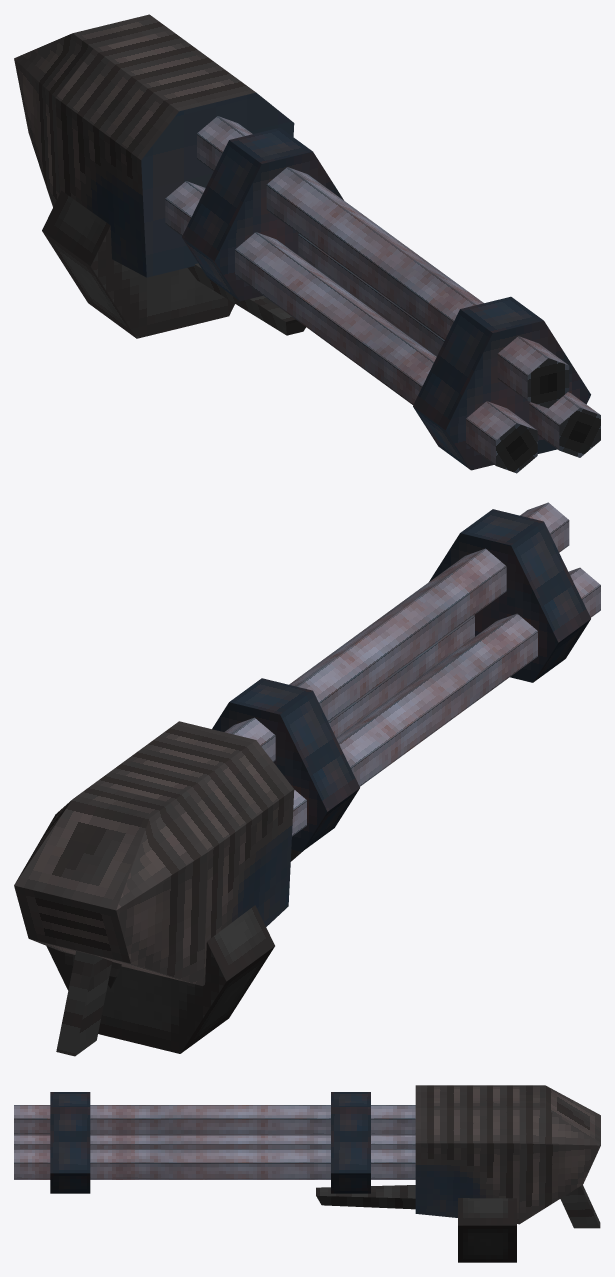
The model's file is chaingun.glb.
3 renders of one model, top to bottom at view 1: azimuth 30°, elevation 25°; view 2: azimuth 150°, elevation 25°; view 3: azimuth 270°, elevation 25°, orthographic. The views are drawn at different scales.
Parts seen in each view (by area): view 1: barrel, chaingun; view 2: chaingun, barrel; view 3: barrel, chaingun.
Part boxes in pixels (x1=…): barrel: x1=165, y1=116, x2=600, y2=473; chaingun: x1=14, y1=14, x2=305, y2=338; chaingun: x1=14, y1=721, x2=302, y2=1056; barrel: x1=212, y1=502, x2=600, y2=851; barrel: x1=14, y1=1092, x2=415, y2=1193; chaingun: x1=316, y1=1085, x2=600, y2=1262.
Bounding box in the file's own units: 0.2569 × 0.3338 × 1.17.
Materials: 1 (1 with a texture image).
